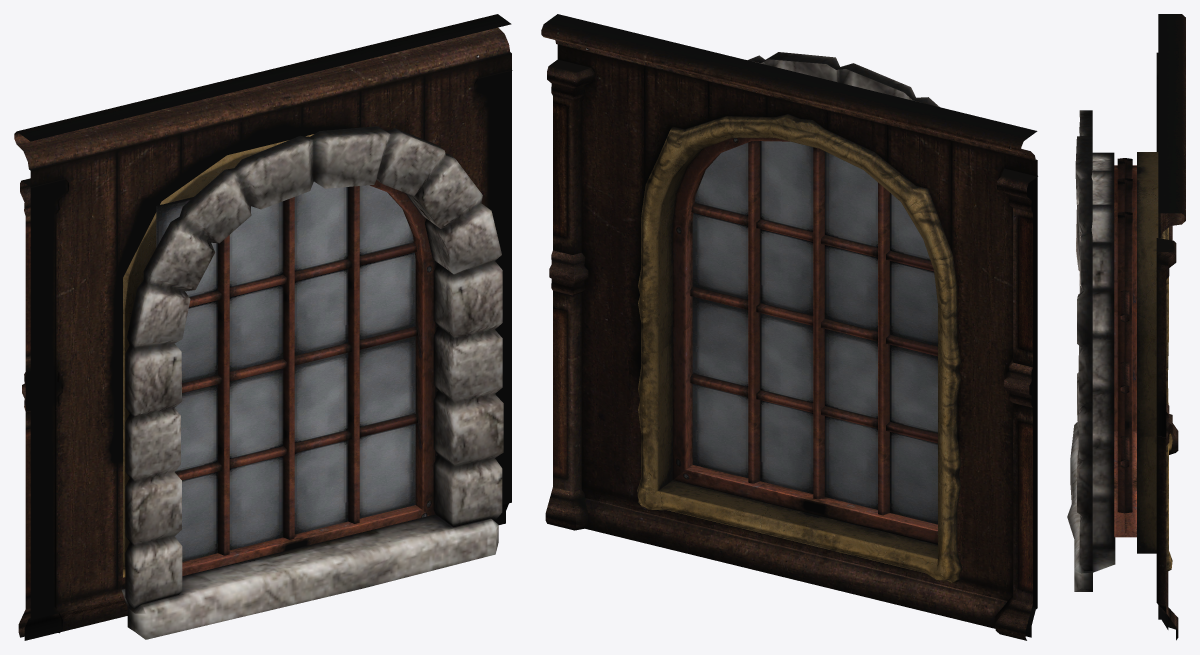
File: window_large_blue_seethrough.dae
The picture shows the model from 3 angles, left to right: view 1: azimuth 30°, elevation 25°; view 2: azimuth 150°, elevation 25°; view 3: azimuth 270°, elevation 25°; orthographic projection. The views are drawn at different scales.
Parts seen in each view (by area): view 1: polySurface679, polySurface682, polySurface639, polySurface680, polySurface640; view 2: polySurface679, polySurface680, polySurface682, polySurface639; view 3: polySurface680, polySurface639, polySurface679, polySurface640.
Boxes of the visible parts, x1=… form: polySurface679: x1=14, y1=14, x2=512, y2=640; polySurface682: x1=156, y1=181, x2=415, y2=561; polySurface639: x1=125, y1=126, x2=503, y2=609; polySurface680: x1=123, y1=134, x2=436, y2=577; polySurface640: x1=121, y1=514, x2=498, y2=639; polySurface679: x1=541, y1=14, x2=1037, y2=640; polySurface680: x1=637, y1=114, x2=962, y2=582; polySurface682: x1=692, y1=141, x2=937, y2=524; polySurface639: x1=747, y1=52, x2=939, y2=106; polySurface680: x1=1114, y1=152, x2=1172, y2=572; polySurface639: x1=1075, y1=110, x2=1114, y2=570; polySurface679: x1=1156, y1=14, x2=1185, y2=640; polySurface640: x1=1067, y1=422, x2=1115, y2=591.
Size of the model in its own units: 4 by 4 by 1.01.
